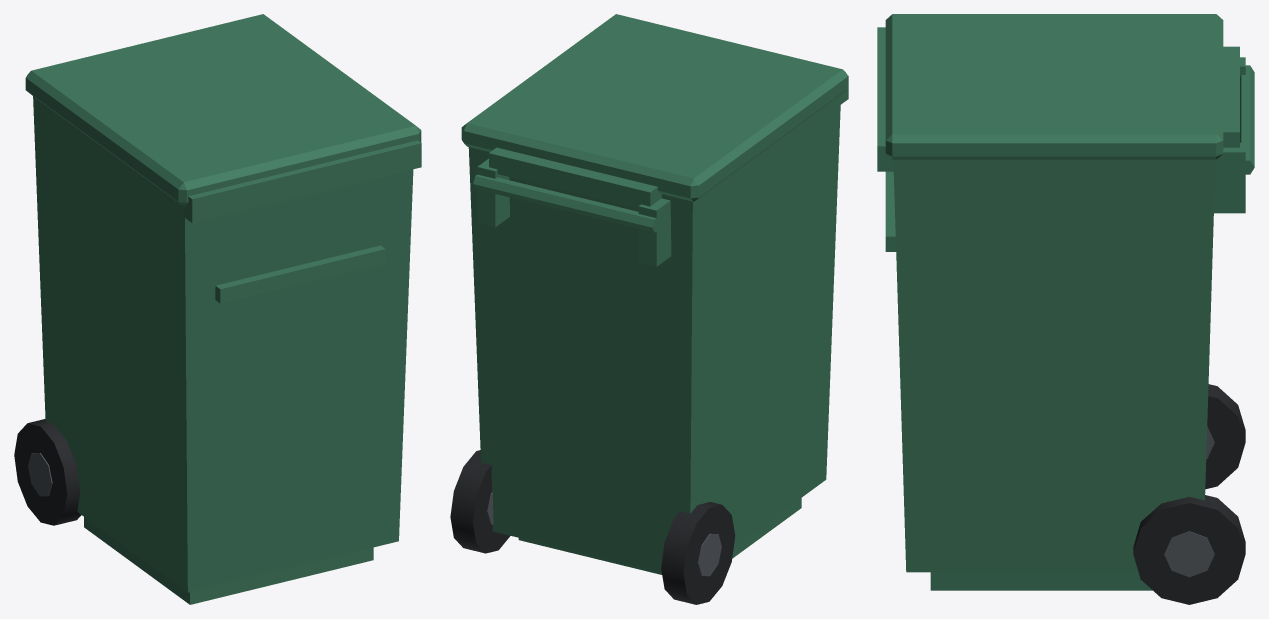
File: SC_Util_Trash_Bin_120L.gltf
3 views of the same model, side by side, from view 1: azimuth 30°, elevation 25°; view 2: azimuth 150°, elevation 25°; view 3: azimuth 270°, elevation 25° (orthographic). The views are drawn at different scales.
Parts seen in each view (by area): view 1: SC_Util_Trash_Bin_120L; view 2: SC_Util_Trash_Bin_120L; view 3: SC_Util_Trash_Bin_120L.
Part boxes in pixels (bbox=[...]): SC_Util_Trash_Bin_120L: bbox=[14, 14, 421, 604]; SC_Util_Trash_Bin_120L: bbox=[450, 14, 848, 604]; SC_Util_Trash_Bin_120L: bbox=[877, 14, 1254, 604].
Size of the model in its own units: 0.53 by 0.92 by 0.671.
Materials: 2 (2 with a texture image).
